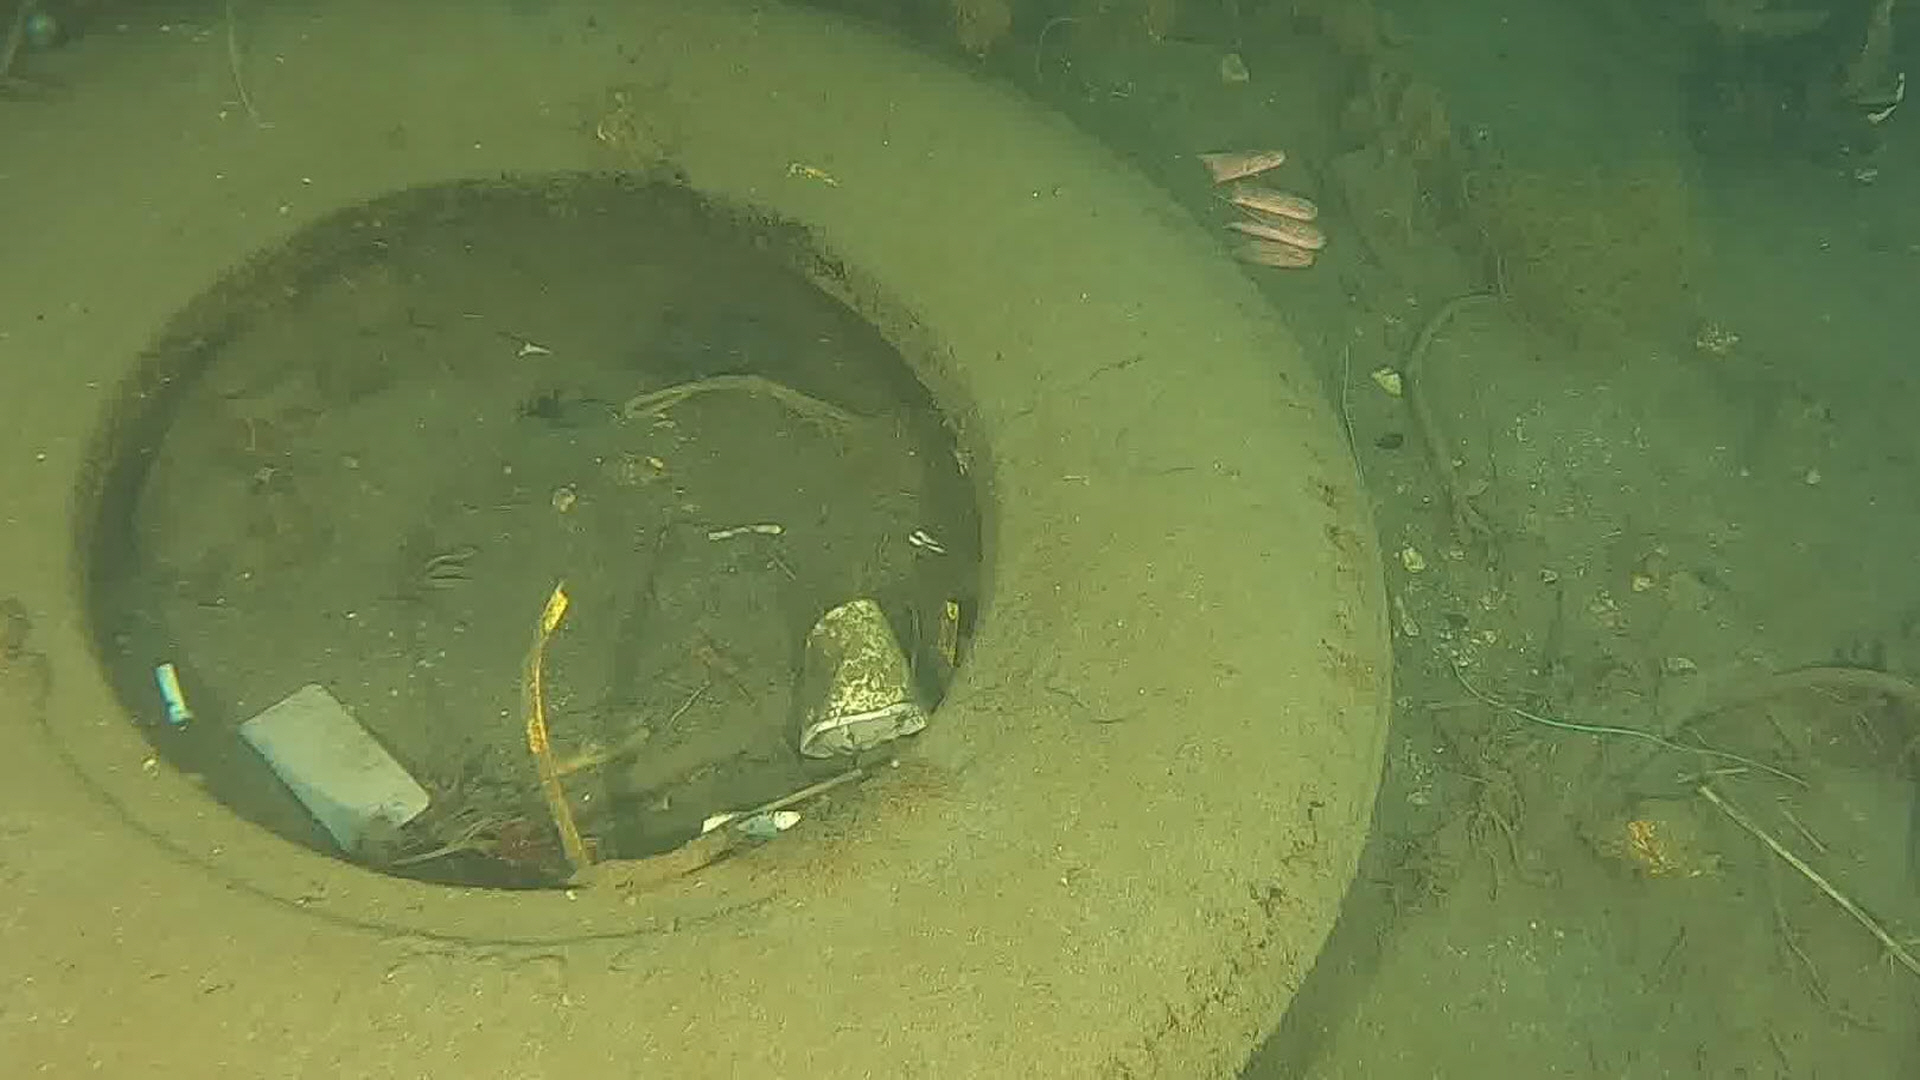tire: (0, 0, 1393, 1080)
